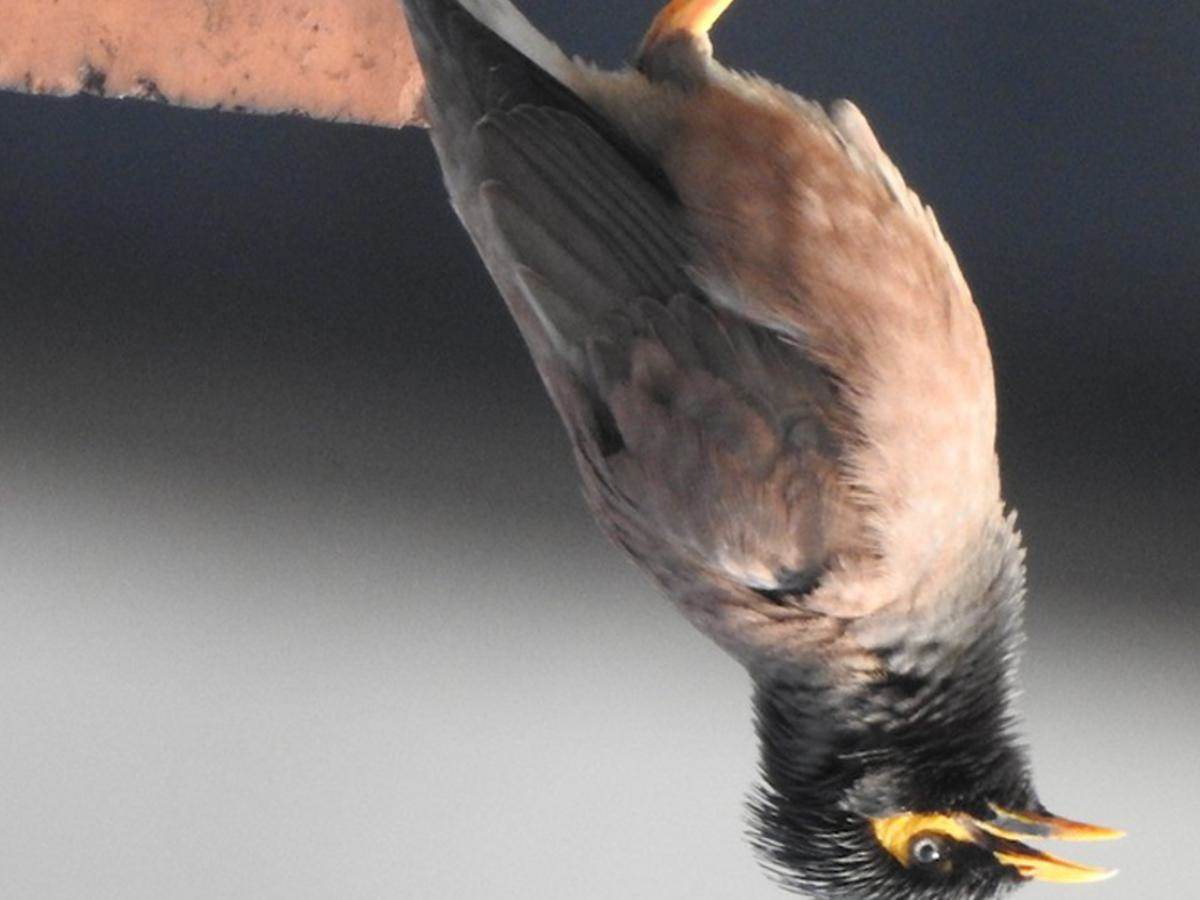myna: (495, 17, 1130, 894)
